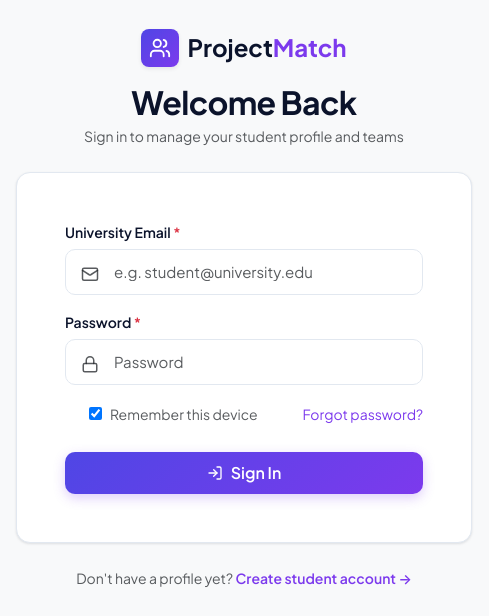
Test: LoginPage › shows an error when the password is fewer than 6 characters
The width and height of the screenshot is (489, 616).
In the field labelled "University Email *": (244, 272) [65, 249, 423, 295], type "student@university.edu"
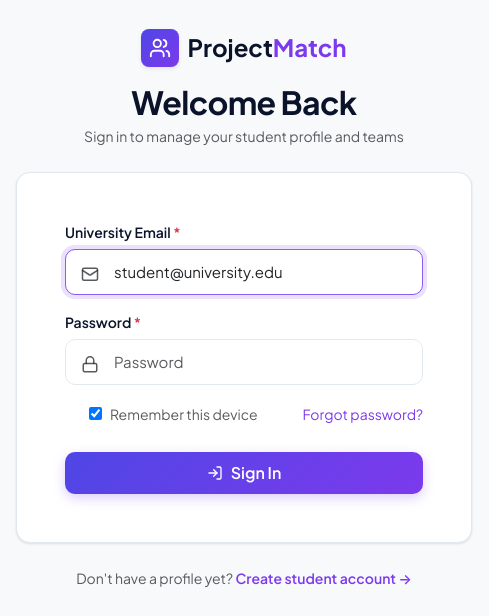
In the password field with placeholder "Password": (244, 362) [65, 339, 423, 385], type "123"
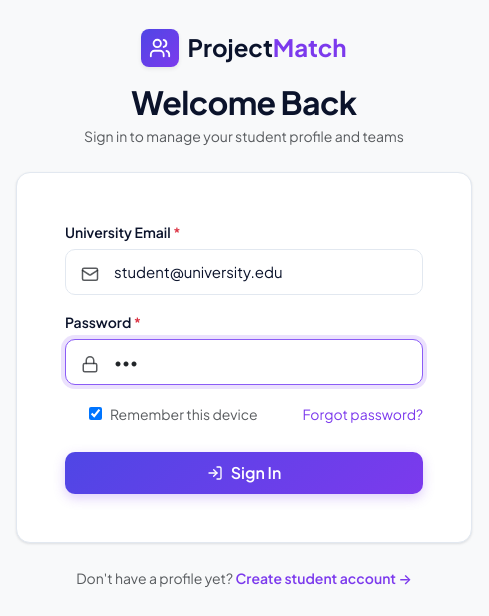
Click the button "Sign In": click(244, 473) [65, 452, 423, 494]
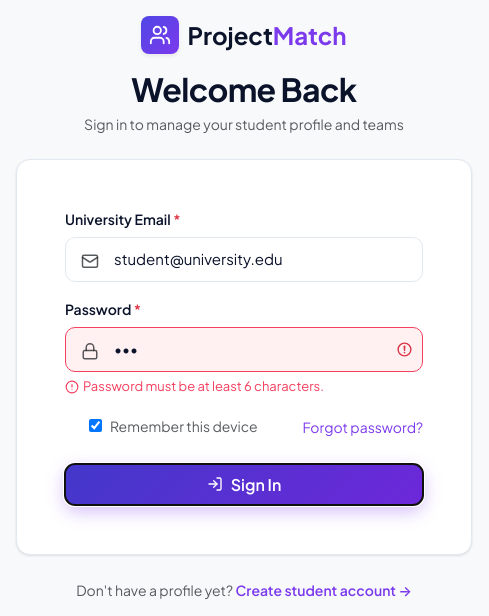
Now the text "Password must be at least 6 characters." is shown, box [83, 376, 324, 397]
